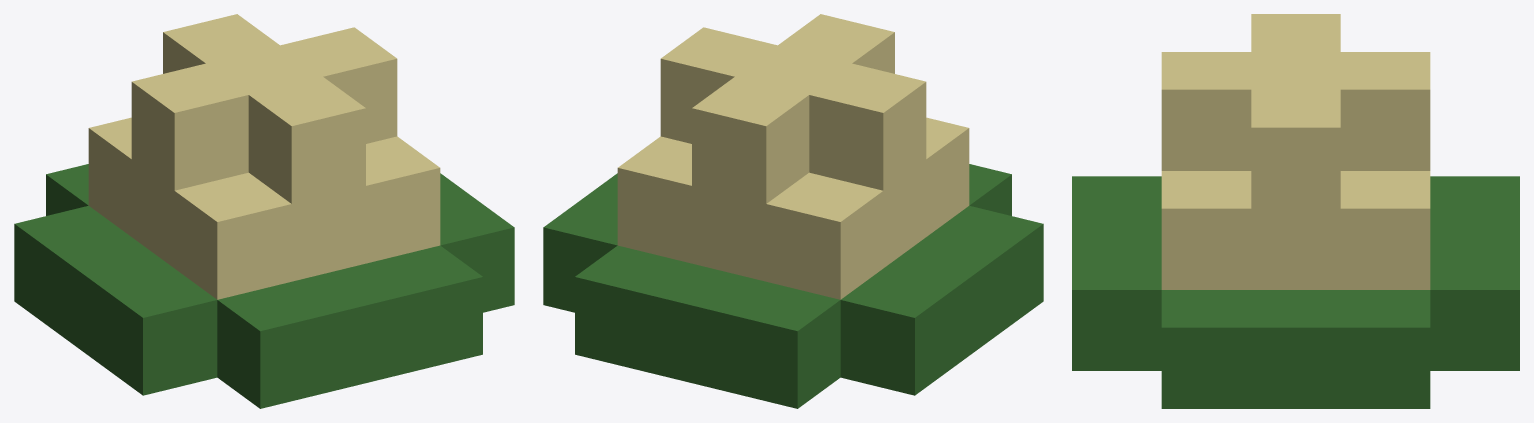
The model's file is farm-33-cauliflower_growth4.obj.
3 renders of one model, left to right at view 1: azimuth 30°, elevation 25°; view 2: azimuth 150°, elevation 25°; view 3: azimuth 270°, elevation 25°, orthographic. The views are drawn at different scales.
Parts seen in each view (by area): view 1: cauliflower_growth4; view 2: cauliflower_growth4; view 3: cauliflower_growth4.
Boxes of the visible parts, left/top/right/bottom form: cauliflower_growth4: left=14, top=14, right=514, bottom=408; cauliflower_growth4: left=543, top=14, right=1043, bottom=408; cauliflower_growth4: left=1072, top=14, right=1519, bottom=408.
Size of the model in its own units: 0.5 by 0.3 by 0.5.
Materials: 1 (1 with a texture image).
